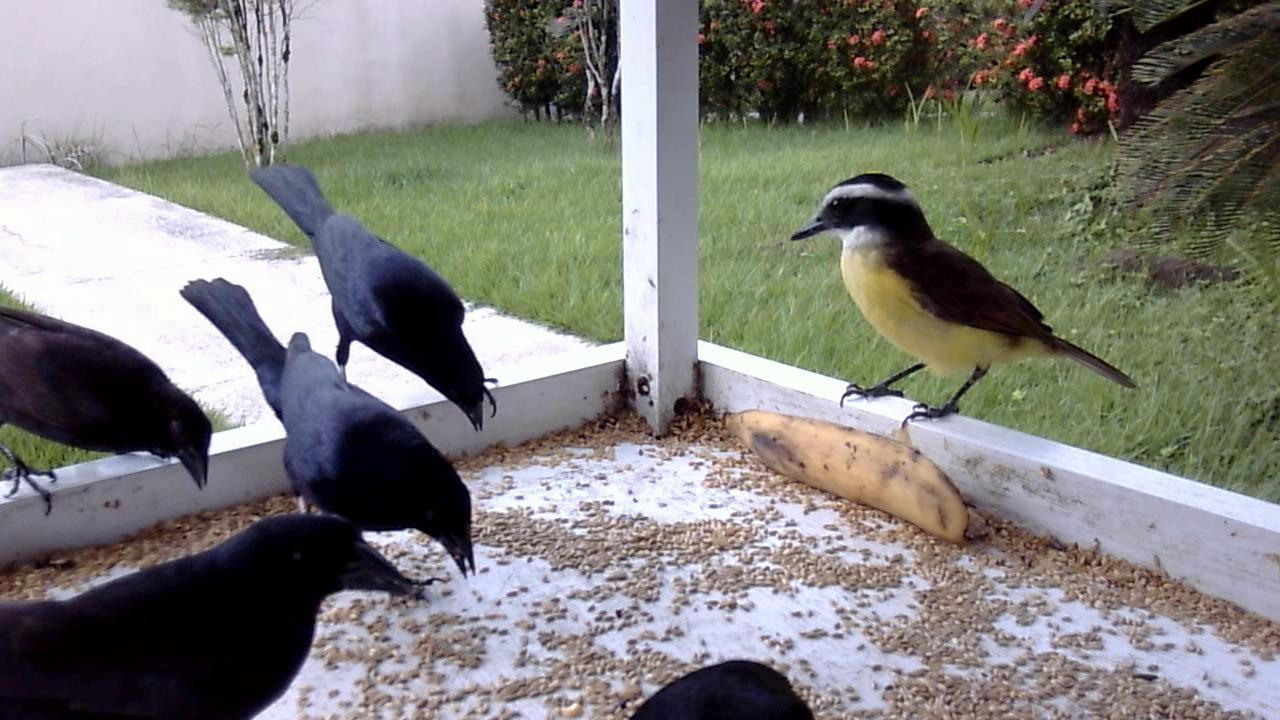bem_te_vi: (774, 167, 1145, 437)
chupim: (172, 272, 482, 584), (1, 506, 428, 720), (244, 160, 500, 432), (1, 306, 216, 524)
